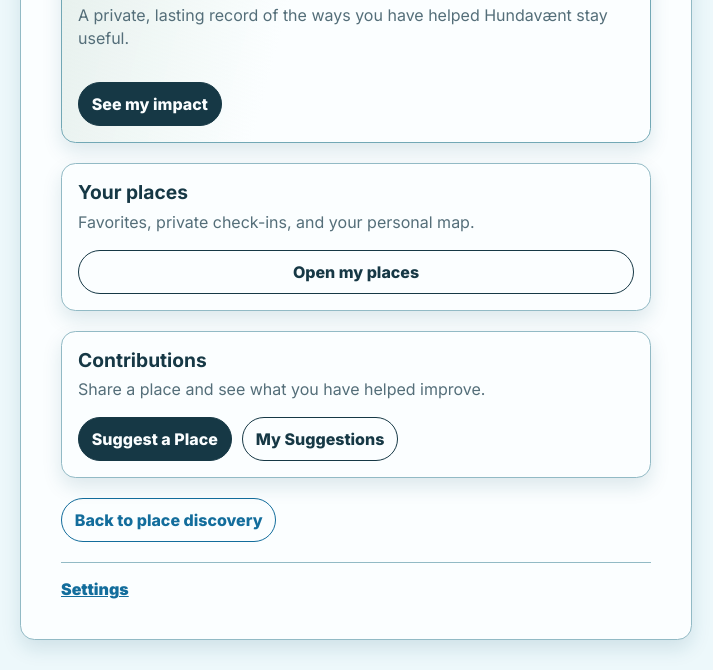
Test: Member account › echoes a recorded deletion request inside the deletion section instead of a request button
(page scrolled)
Click the button "Settings": (95,589) [61,579,129,599]
(page scrolled)
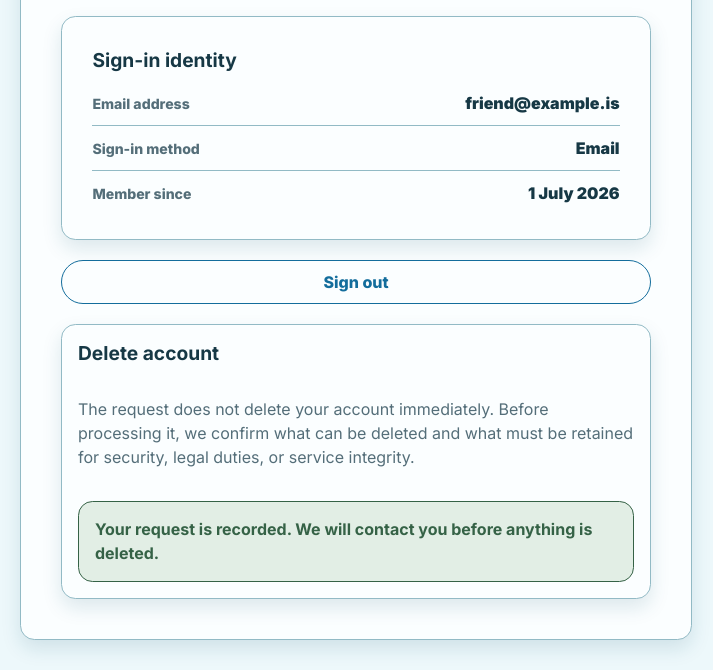
Result: the text "Your request is recorded. We will contact you before anything is deleted." is shown at [78,501,634,582]
